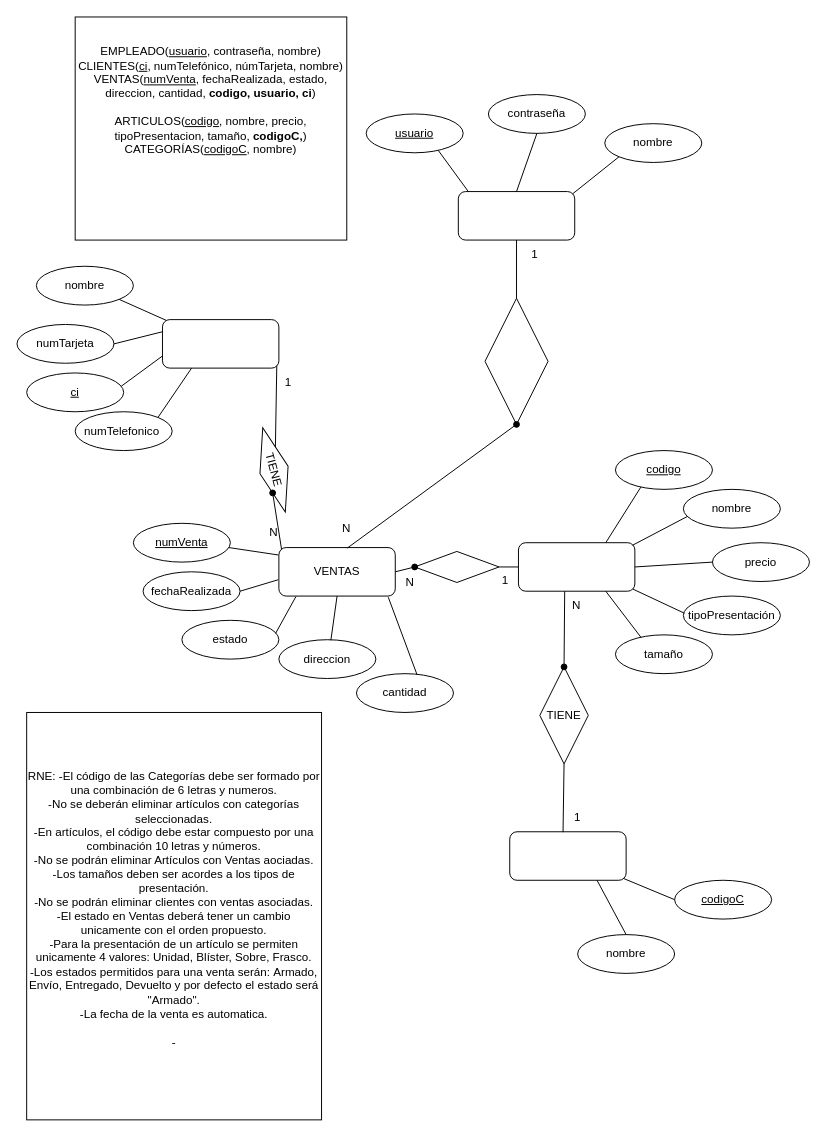
The diagram is 826 pixels wide and 1137 high, and some of its shapes have lost their labels. The shapes that lost their labels are listed below. From the top down, each one's centre as x and y in pixels, then its label:
(516,215): EMPLEADO
(220,343): CLIENTES
(516,360): GESTIONA
(456,566): ASOCIA
(576,566): ARTÍCULOS
(567,855): CATEGORiA
